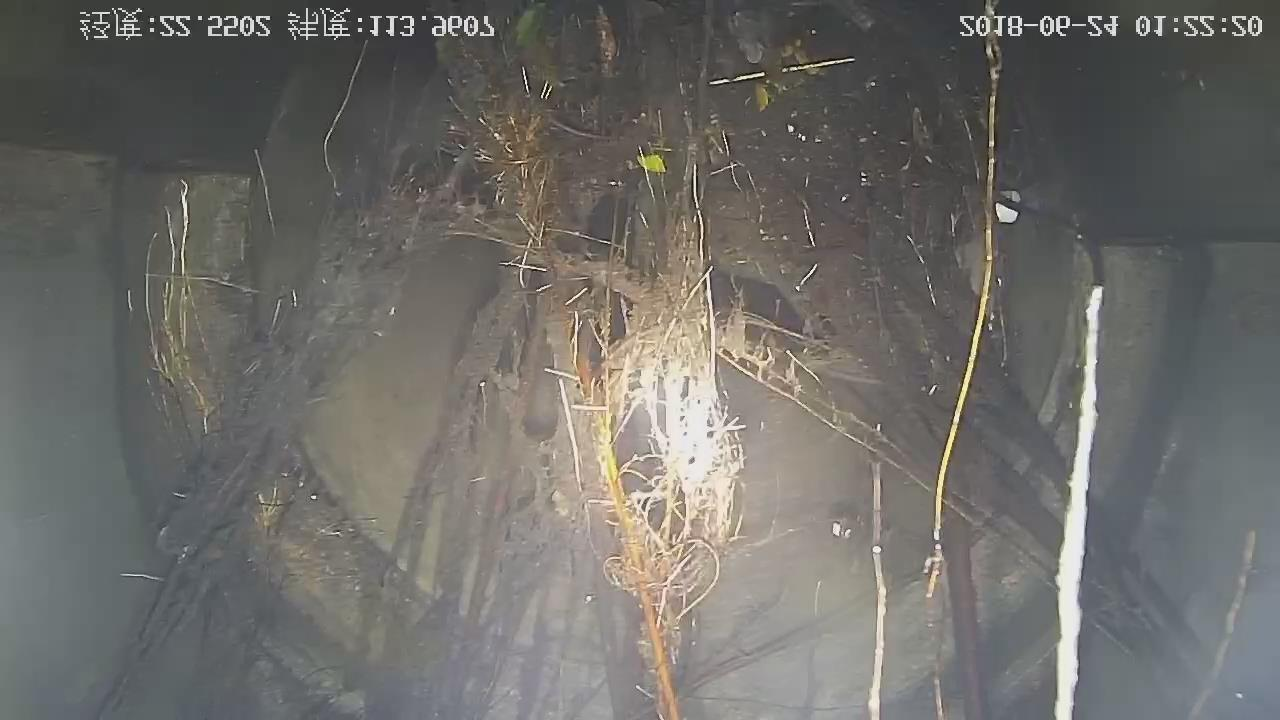SG: (151, 1, 1097, 720)
